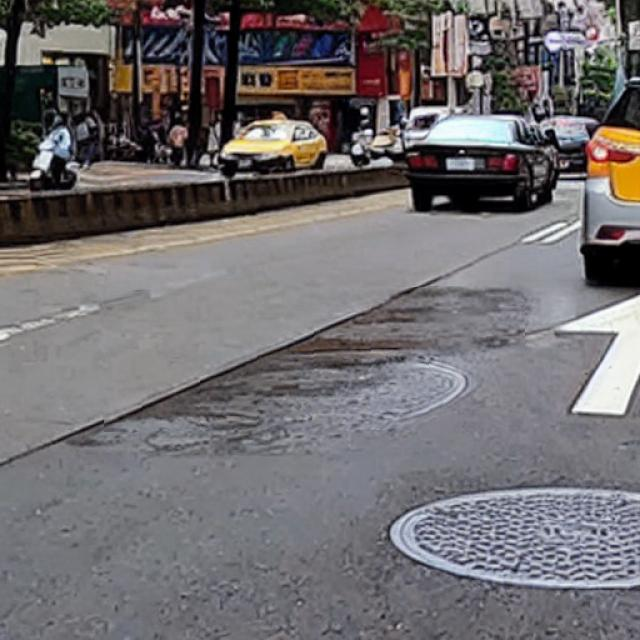puddle: (103, 288, 527, 432)
